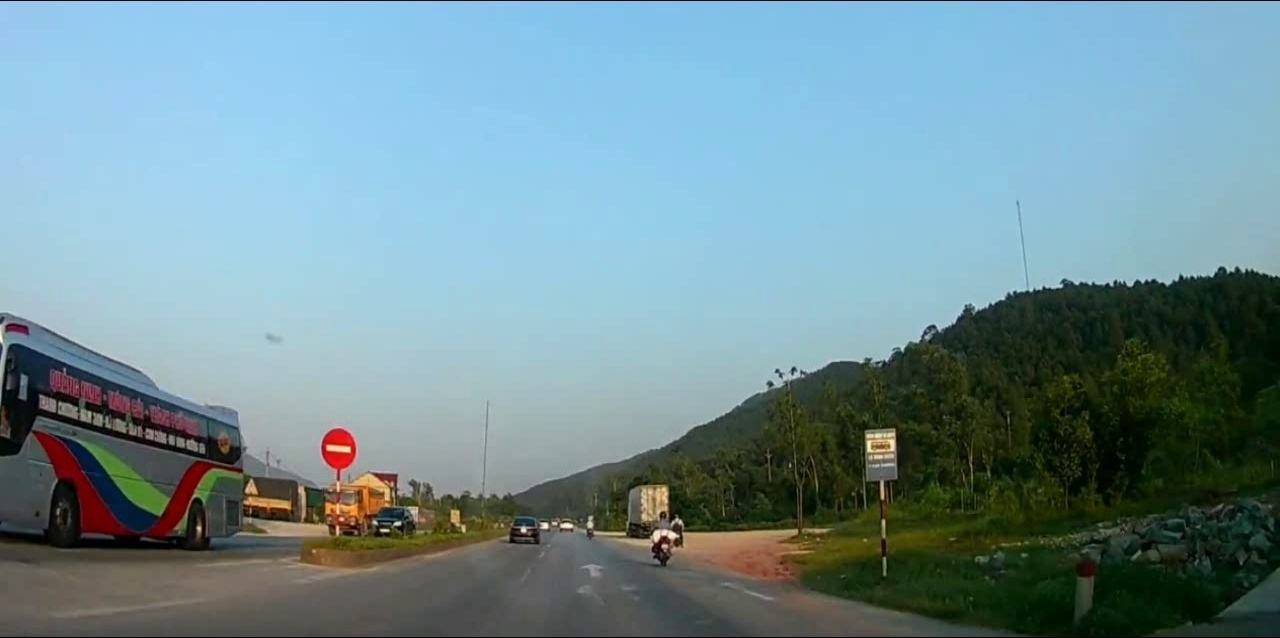Bien khac: (864, 427, 897, 482)
Cam di nguoc chieu: (321, 428, 357, 470)
